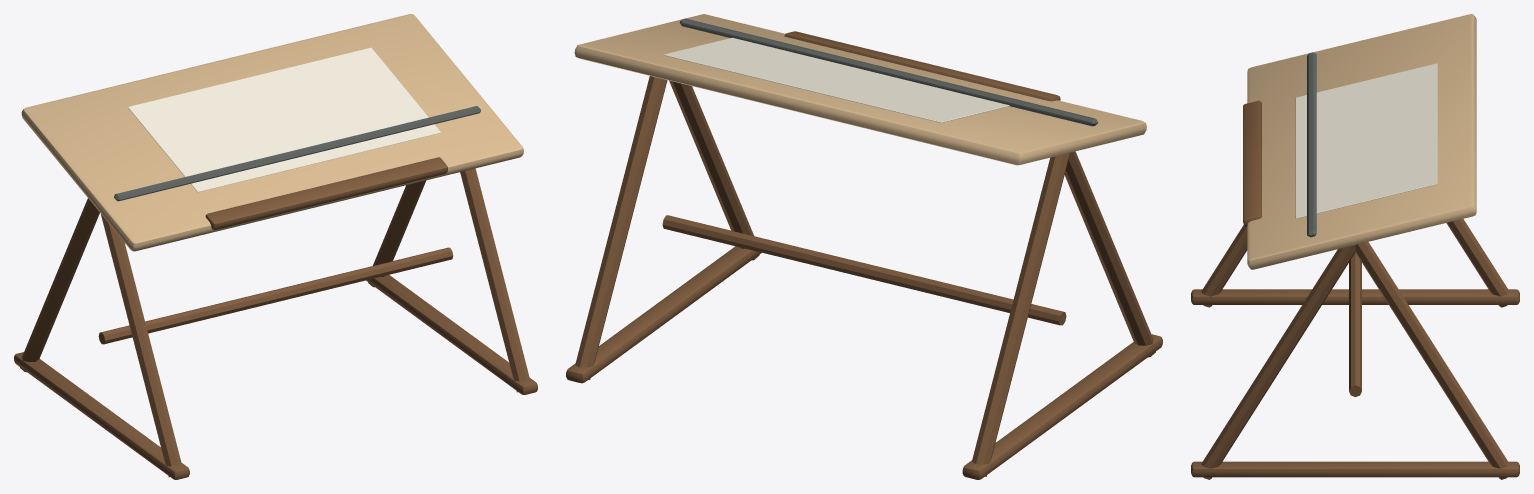
The model's file is drafting_table.glb.
The picture shows the model from 3 angles, left to right: view 1: azimuth 30°, elevation 25°; view 2: azimuth 150°, elevation 25°; view 3: azimuth 270°, elevation 25°; orthographic projection. The views are drawn at different scales.
Parts seen in each view (by area): view 1: FURN-drafting_table; view 2: FURN-drafting_table; view 3: FURN-drafting_table.
Boxes of the visible parts, bbox=[...] form: FURN-drafting_table: bbox=[14, 14, 537, 479]; FURN-drafting_table: bbox=[566, 14, 1162, 479]; FURN-drafting_table: bbox=[1191, 14, 1519, 479].
Bounding box in the file's own units: 1.4 × 0.9494 × 1.
